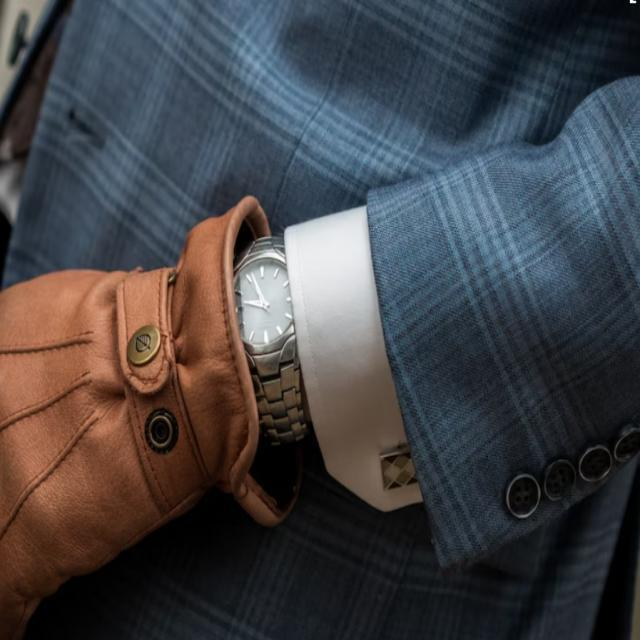Watch: (232, 230, 312, 442)
